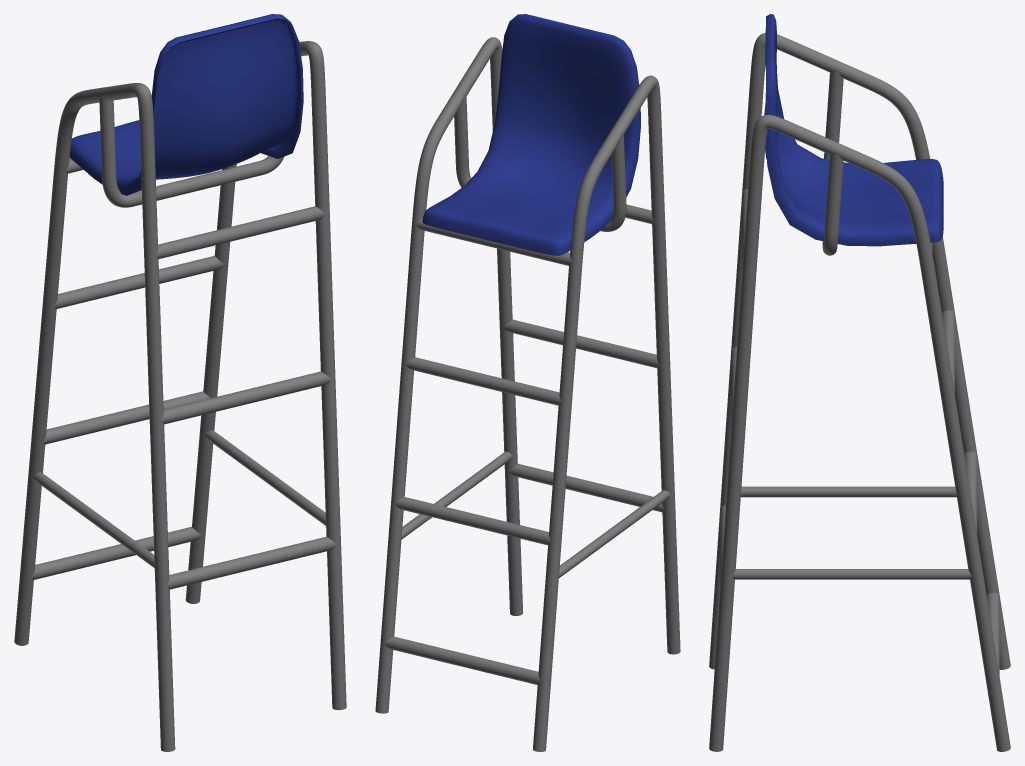
The model's file is RefereeChair.fbx.
3 views of the same model, side by side, from view 1: azimuth 30°, elevation 25°; view 2: azimuth 150°, elevation 25°; view 3: azimuth 270°, elevation 25° (orthographic). The views are drawn at different scales.
Visible parts, largest first — view 1: RefereeChair, Seat.001; view 2: RefereeChair, Seat.001; view 3: RefereeChair, Seat.001.
Part boxes in pixels (bbox=[...]): RefereeChair: bbox=[14, 41, 346, 751]; Seat.001: bbox=[69, 14, 303, 195]; RefereeChair: bbox=[375, 37, 680, 751]; Seat.001: bbox=[422, 14, 640, 255]; RefereeChair: bbox=[709, 33, 1010, 751]; Seat.001: bbox=[764, 14, 943, 246].
Size of the model in its own units: 89.03 by 316 by 129.
